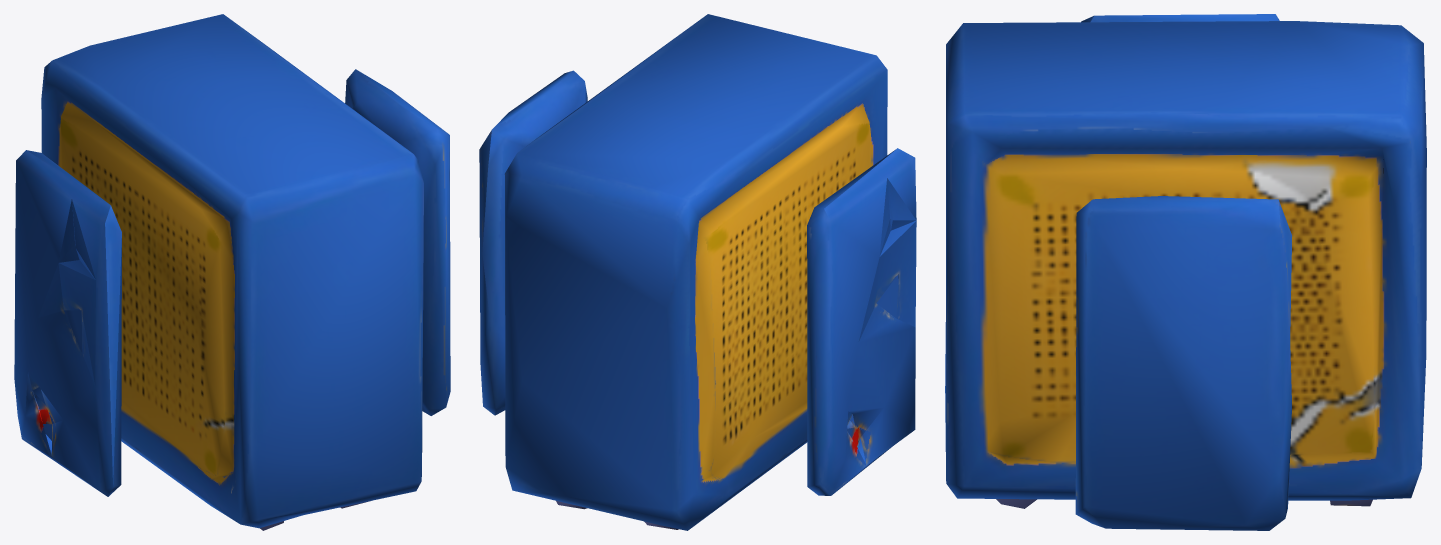
File: pa-speaker-broken.glb
3 renders of one model, left to right at view 1: azimuth 30°, elevation 25°; view 2: azimuth 150°, elevation 25°; view 3: azimuth 270°, elevation 25°, orthographic. The views are drawn at different scales.
Visible parts, largest first — view 1: geometry_0.001; view 2: geometry_0.001; view 3: geometry_0.001.
Boxes of the visible parts, bbox=[...] form: geometry_0.001: bbox=[14, 14, 450, 530]; geometry_0.001: bbox=[479, 14, 916, 530]; geometry_0.001: bbox=[945, 14, 1426, 530].
Bounding box in the file's own units: 0.971 × 0.9359 × 0.9995.
1 material, 1 textured.
